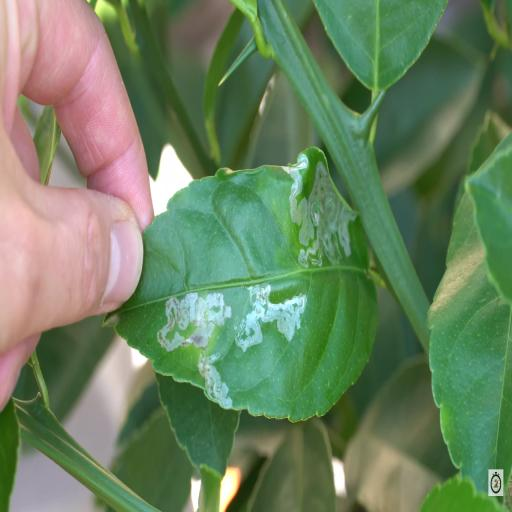Leaf_Miner: (110, 144, 379, 421)
